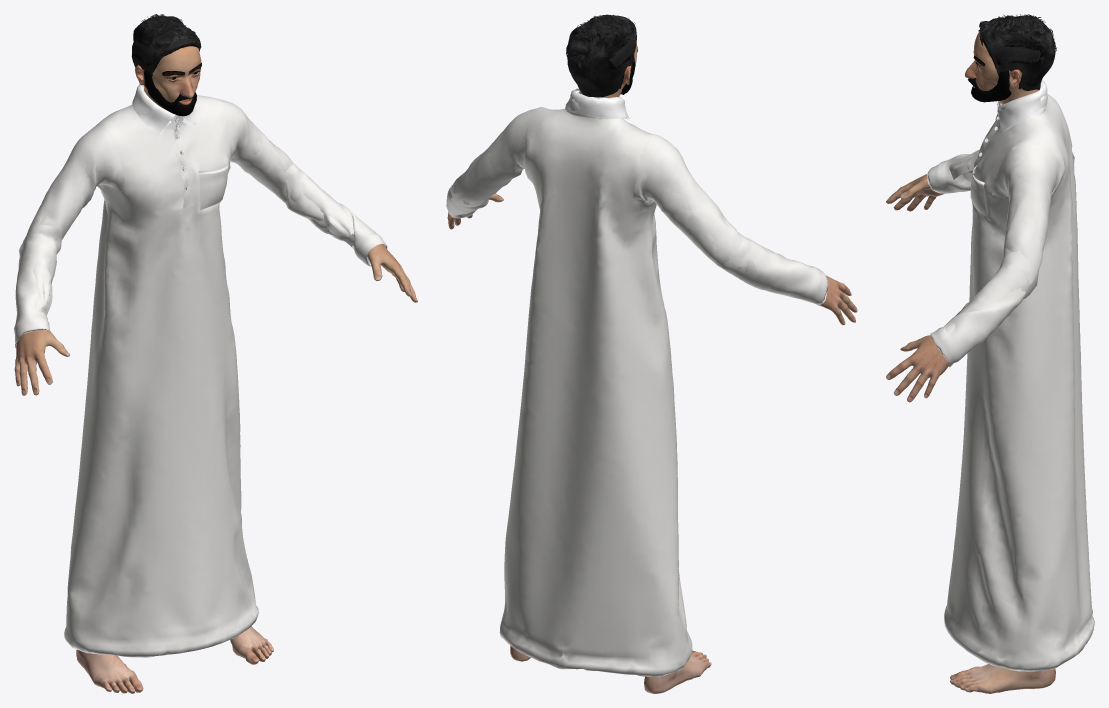
Rendered from man.glb.
3 renders of one model, left to right at view 1: azimuth 30°, elevation 25°; view 2: azimuth 150°, elevation 25°; view 3: azimuth 270°, elevation 25°, orthographic.
Parts seen in each view (by area): view 1: dress_whole, body_meshfinal, sleeves_cuff, sleeves_p, spread_2b, edging_square; view 2: dress_whole, sleeves_p, body_meshfinal, sleeves_cuff, spread_2b; view 3: dress_whole, body_meshfinal, sleeves_p, sleeves_cuff, spread_2b.
Boxes of the visible parts, box(x1,y1,x2,y2) form: dress_whole: box(64, 95, 258, 657); body_meshfinal: box(14, 14, 417, 693); sleeves_cuff: box(18, 100, 373, 315); sleeves_p: box(14, 98, 387, 348); spread_2b: box(132, 84, 196, 135); edging_square: box(171, 129, 191, 234); dress_whole: box(499, 107, 692, 676); sleeves_p: box(446, 107, 828, 305); body_meshfinal: box(447, 14, 857, 693); sleeves_cuff: box(451, 110, 785, 271); spread_2b: box(565, 88, 629, 119); dress_whole: box(944, 94, 1094, 671); body_meshfinal: box(886, 14, 1056, 693); sleeves_p: box(927, 142, 1060, 367); sleeves_cuff: box(945, 143, 1060, 333); spread_2b: box(996, 80, 1047, 132).
Bounding box in the file's own units: 31.27 × 48.32 × 14.37.
Materials: 13 (12 with a texture image).
